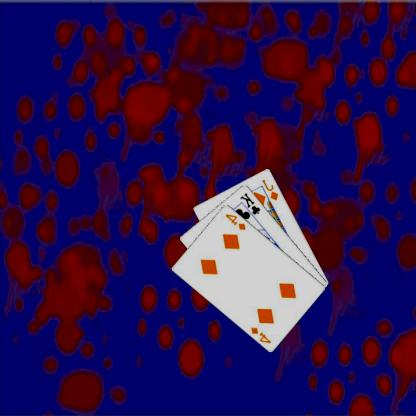4D: (250, 324, 274, 345), (224, 211, 249, 231)
JD: (261, 176, 281, 202)
KC: (239, 190, 263, 221)
